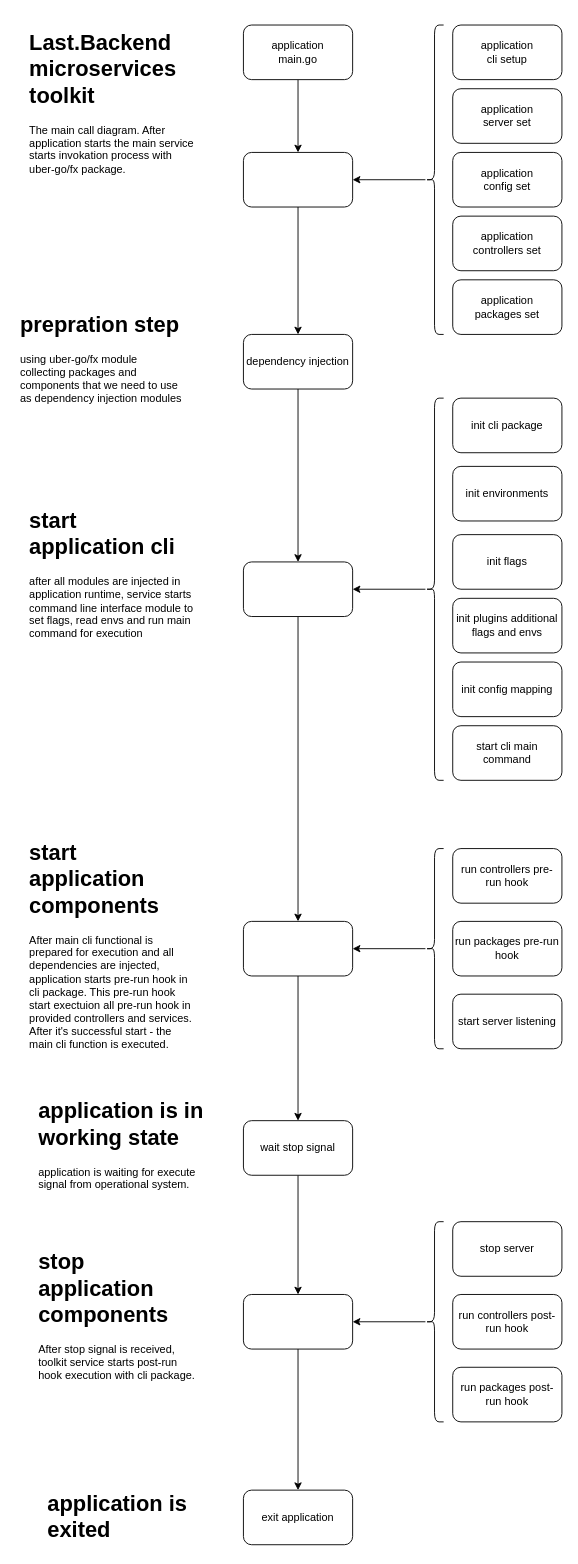
Some shapes in this 578 by 1564 pixel diagram are drawn without their labels. The shapes that lost their labels are listed below. From the top down, each one's centre as x and y in pixels, then its label:
At [298,179]: "toolkit service components init".
At [298,589]: "start application".
At [298,948]: "run lifecycle on-start".
At [298,1321]: "run lifecycle on-stop".
